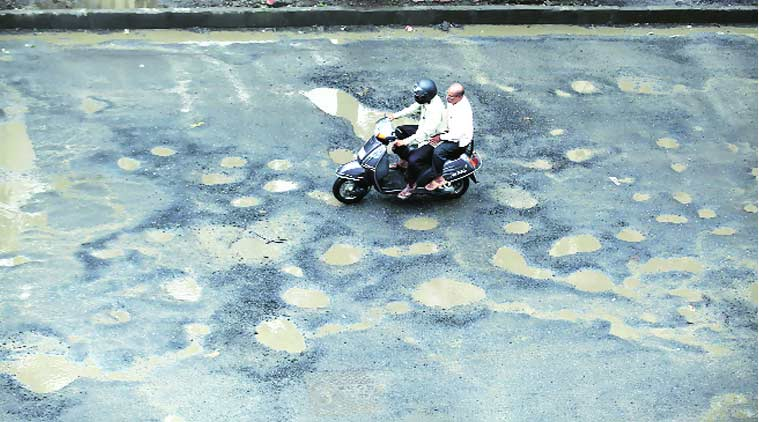pothole: (285, 64, 389, 145), (0, 306, 76, 405), (637, 312, 729, 365), (247, 300, 311, 373), (398, 269, 489, 317), (484, 232, 545, 290), (623, 243, 706, 283), (307, 223, 375, 260), (380, 228, 447, 260), (273, 275, 346, 303), (614, 61, 659, 101), (559, 134, 607, 168), (487, 179, 553, 203), (506, 142, 547, 176), (85, 231, 120, 268), (558, 69, 590, 99)
